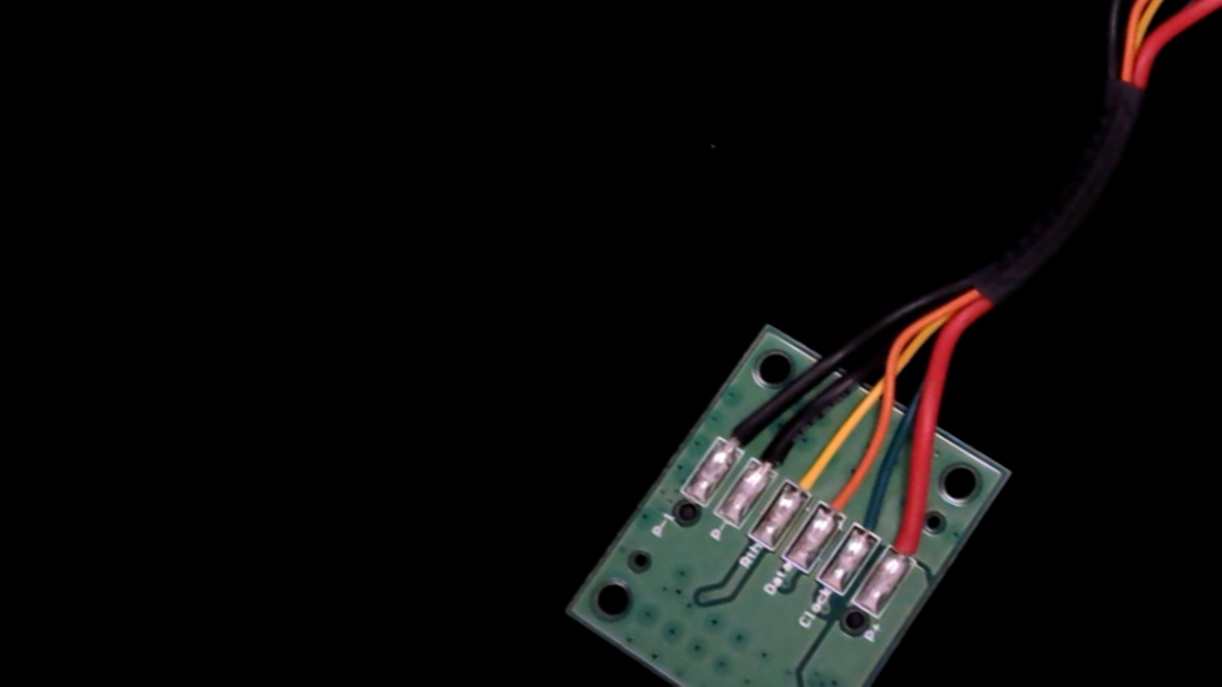Black: (738, 410, 815, 492)
Black1: (702, 394, 774, 470)
Green: (837, 489, 906, 562)
Orange: (805, 457, 879, 538)
Red: (873, 500, 946, 581)
Yellow: (769, 430, 846, 513)
